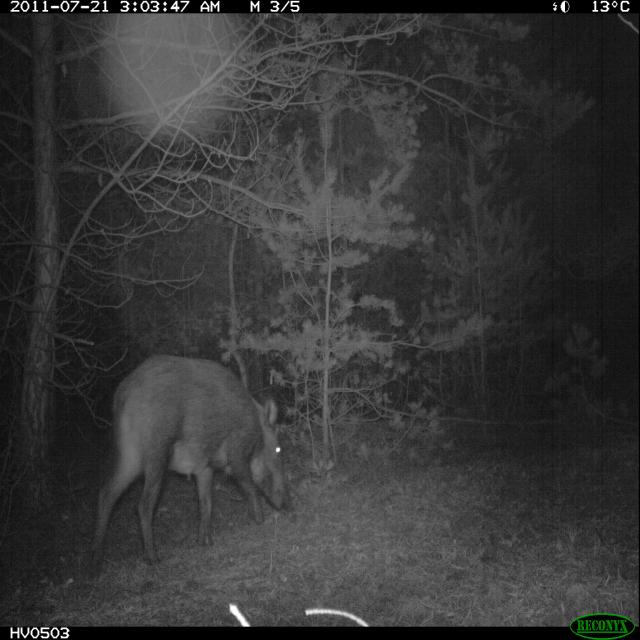boar: (59, 334, 296, 576)
